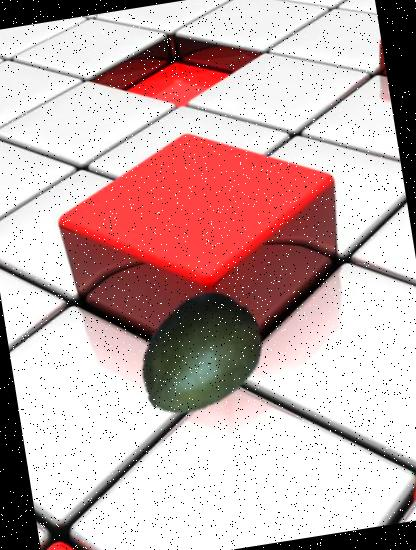Mango: (122, 277, 274, 429)
